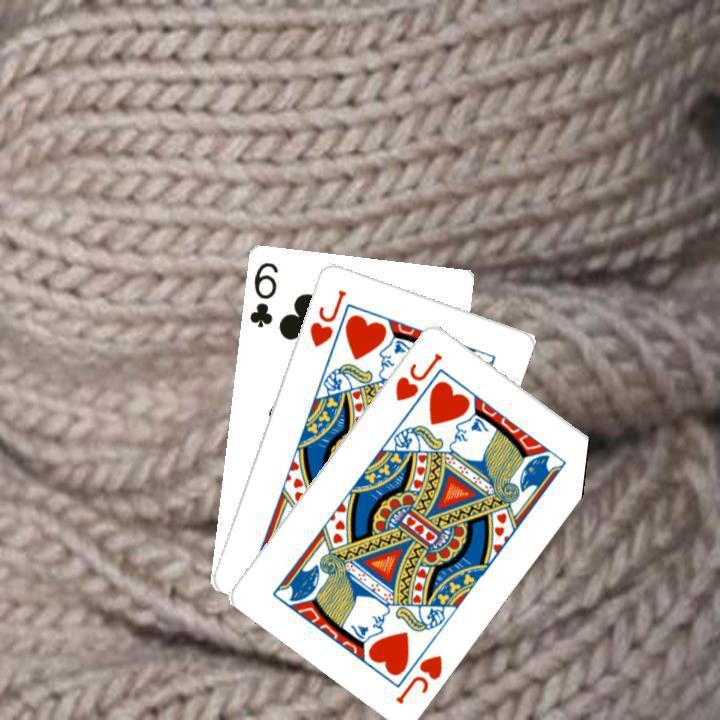6: (244, 257, 280, 329)
J: (390, 347, 445, 403), (391, 650, 445, 706), (305, 285, 348, 349)
